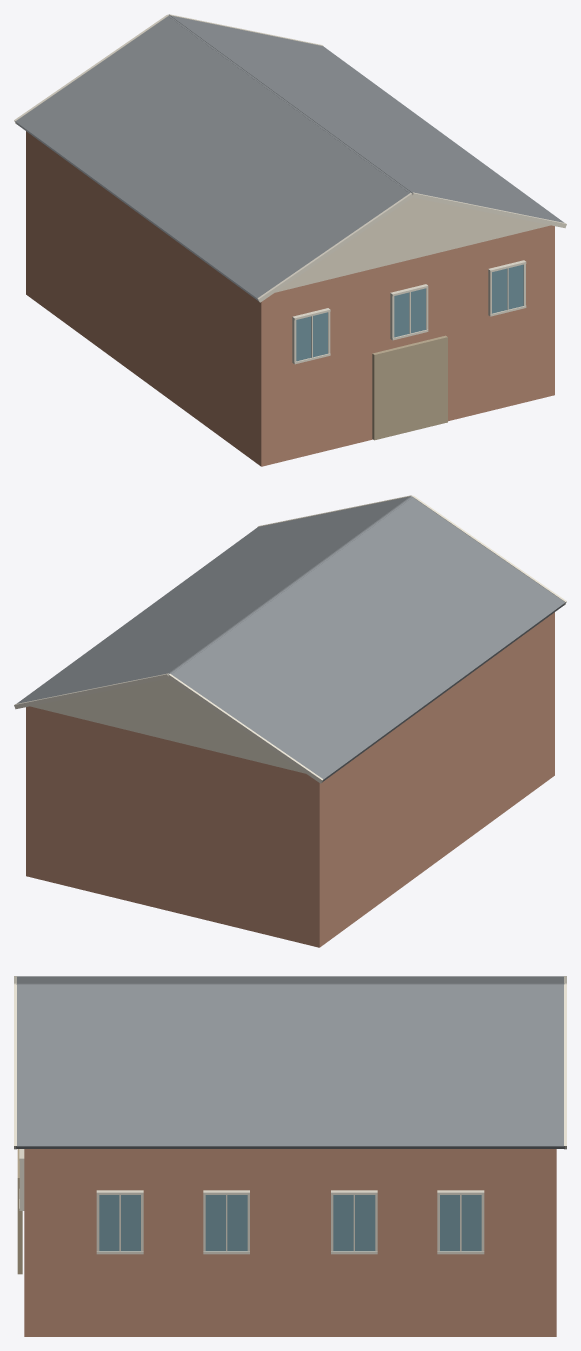
File: rhine-warehouse_lod0.glb
3 views of the same model, one above another, from view 1: azimuth 30°, elevation 25°; view 2: azimuth 150°, elevation 25°; view 3: azimuth 270°, elevation 25° (orthographic). The views are drawn at different scales.
Visible parts, largest first — view 1: RF_IndustrialHall, RF_Roof.001, RF_Roof, RF_Gable, RF_LoadingDoor, RF_Window, RF_Window.005, RF_Window.006, RF_Vergeband.001, RF_Vergeband.003, RF_Ridge; view 2: RF_IndustrialHall, RF_Roof.001, RF_Roof, RF_Gable.001, RF_Vergeband.002, RF_Vergeband, RF_Ridge; view 3: RF_Roof, RF_IndustrialHall, RF_Roof.001, RF_Window.002, RF_Window.003, RF_Window.001, RF_Window.004, RF_LoadingDoor, RF_Ridge, RF_Vergeband.003, RF_Vergeband.
Part boxes in pixels (x1,y1,x2,y2): RF_IndustrialHall: [26, 131, 554, 466]; RF_Roof.001: [15, 16, 410, 301]; RF_Roof: [170, 15, 564, 222]; RF_Gable: [275, 197, 550, 292]; RF_LoadingDoor: [372, 335, 447, 440]; RF_Window: [492, 264, 523, 313]; RF_Window.005: [296, 312, 327, 361]; RF_Window.006: [394, 288, 425, 337]; RF_Vergeband.001: [257, 193, 413, 302]; RF_Vergeband.003: [412, 192, 566, 228]; RF_Ridge: [168, 15, 412, 193]; RF_IndustrialHall: [26, 612, 554, 947]; RF_Roof.001: [170, 497, 565, 782]; RF_Roof: [16, 496, 410, 703]; RF_Gable.001: [30, 678, 305, 773]; RF_Vergeband.002: [167, 674, 323, 783]; RF_Vergeband: [14, 673, 168, 709]; RF_Ridge: [168, 496, 412, 674]; RF_Roof: [16, 984, 564, 1148]; RF_IndustrialHall: [24, 1149, 556, 1336]; RF_Roof.001: [16, 976, 564, 984]; RF_Window.002: [205, 1195, 247, 1251]; RF_Window.003: [333, 1195, 375, 1251]; RF_Window.001: [99, 1195, 140, 1251]; RF_Window.004: [440, 1195, 481, 1251]; RF_LoadingDoor: [17, 1149, 22, 1274]; RF_Ridge: [17, 984, 563, 984]; RF_Vergeband.003: [14, 984, 16, 1149]; RF_Vergeband: [564, 984, 566, 1149].
Size of the model in its own units: 18.89 by 14.11 by 25.98.
